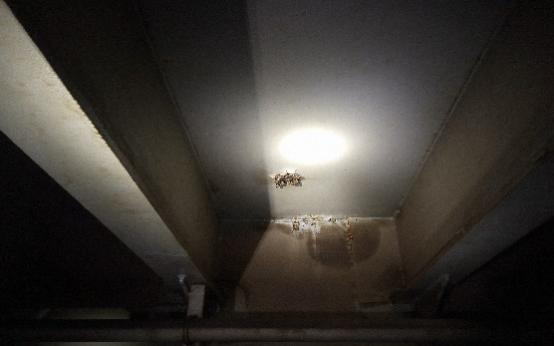corrosion: (256, 204, 357, 238), (256, 165, 327, 196)
